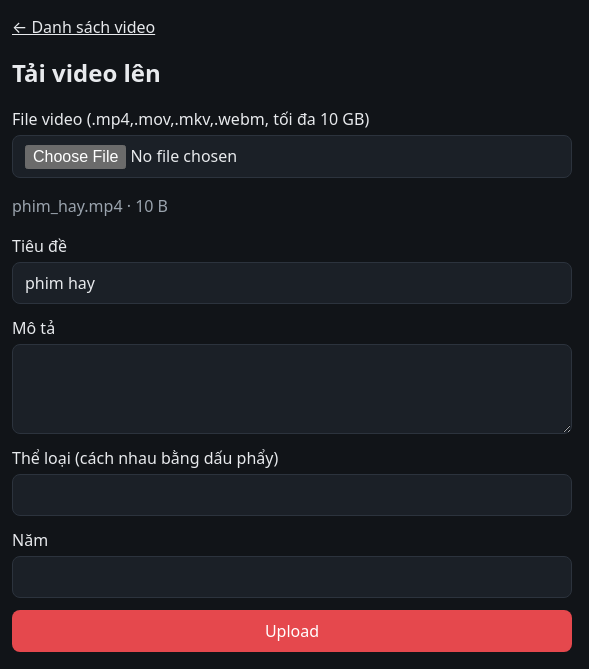
it: AdminUploadPage › upload với metadata, hiện tiến độ rồi chuyển tới trang chi tiết
The image size is (589, 669).
Earlier steps of the test are not shown.
Later steps or results of the test are not shown.
Expected: the field labelled "Tiêu đề" holds "phim hay", [12,262,572,304]
In the field labelled "Thể loại (cách nhau bằng dấu phẩy)": (292, 495) [12,474,572,516], type "drama, hài"
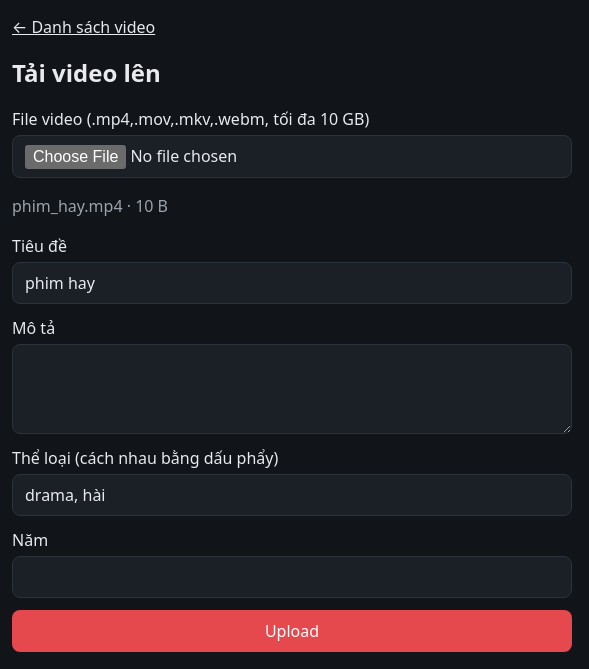
In the field labelled "Năm": (292, 577) [12,556,572,598], type "2024"
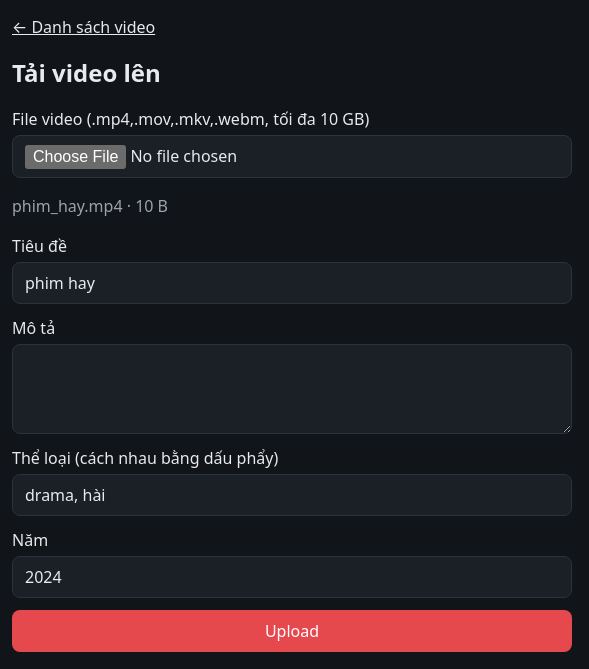
Click the button "Upload": (292, 631) [12,610,572,652]
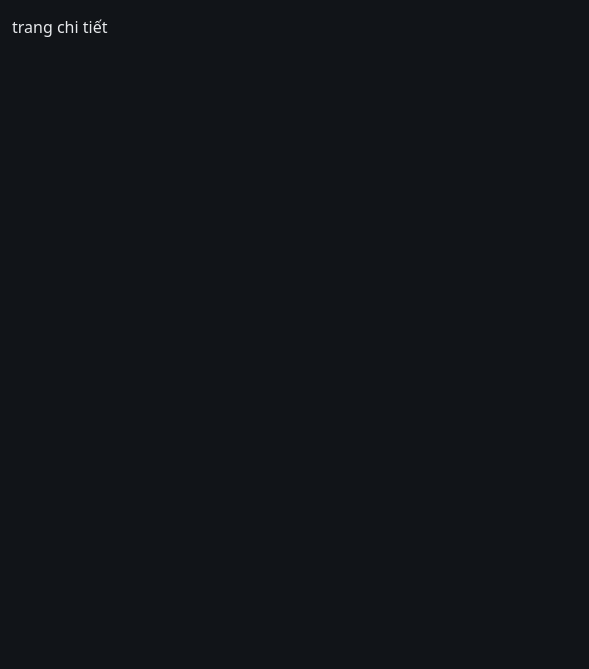
Expected: the text "trang chi tiết" is shown, [12,16,108,38]
